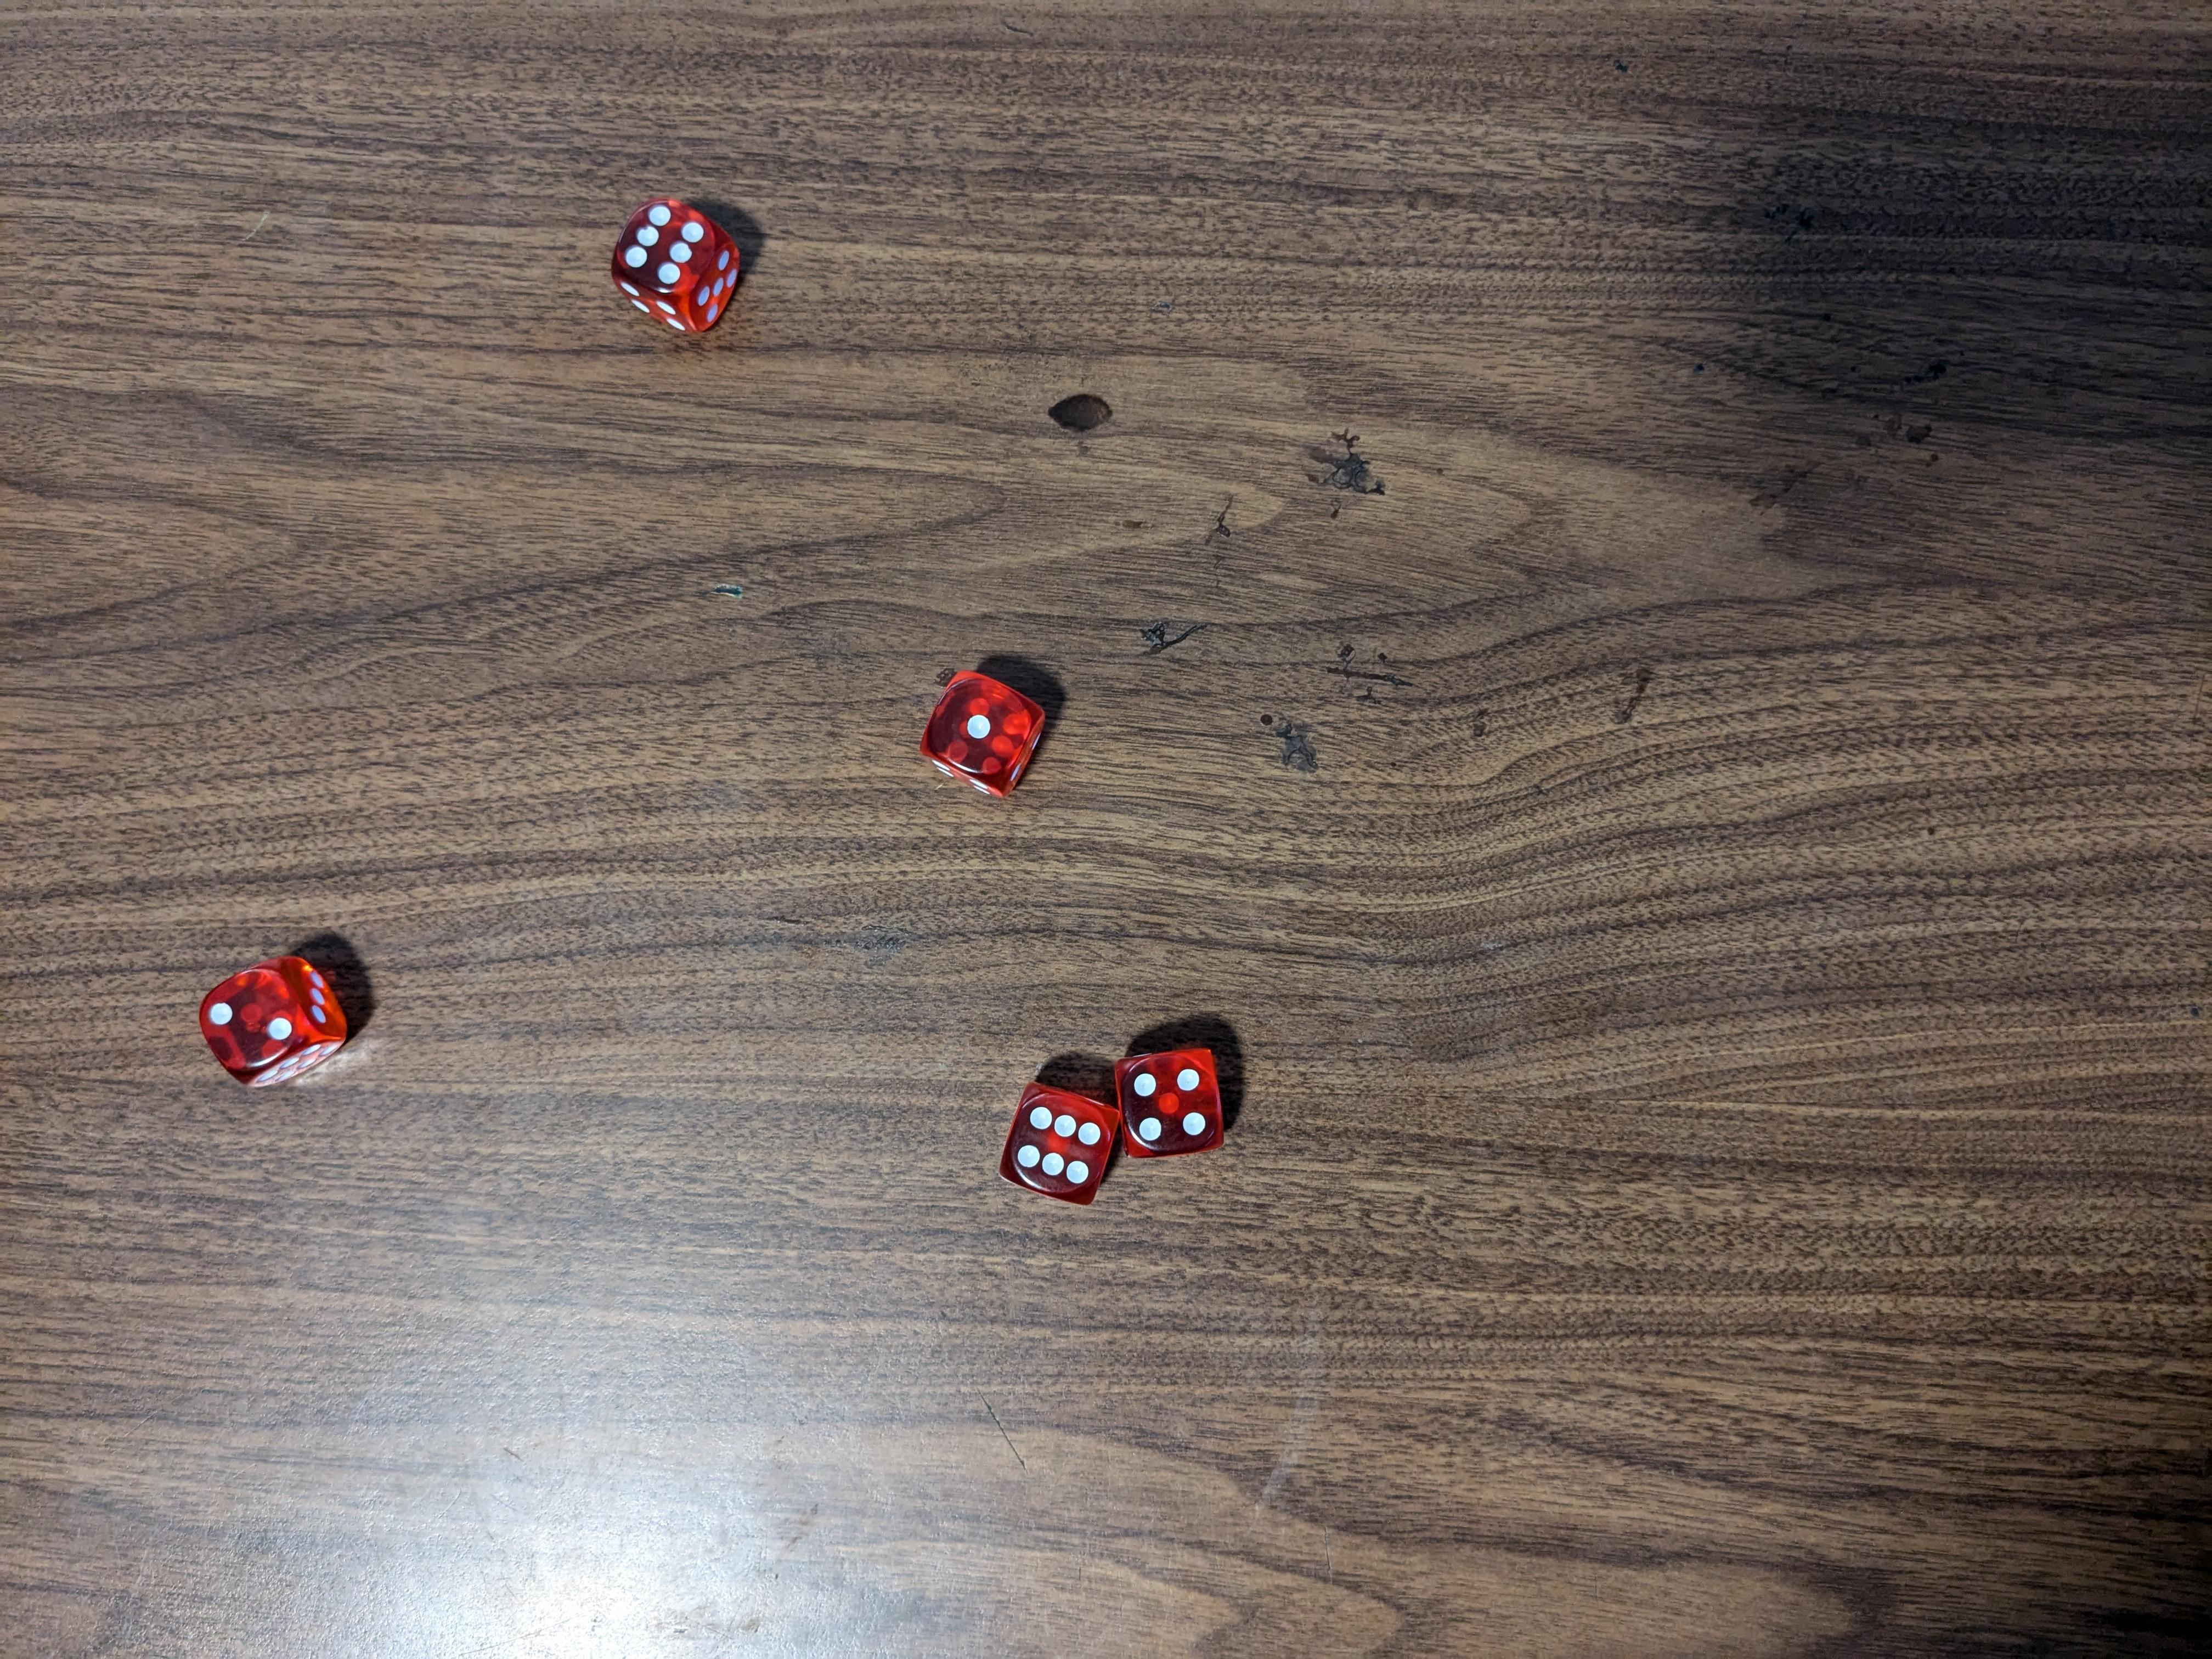four: (1111, 1044, 1221, 1154)
one: (921, 667, 1047, 786)
six: (613, 190, 747, 333), (998, 1080, 1122, 1202)
two: (200, 953, 350, 1087)
